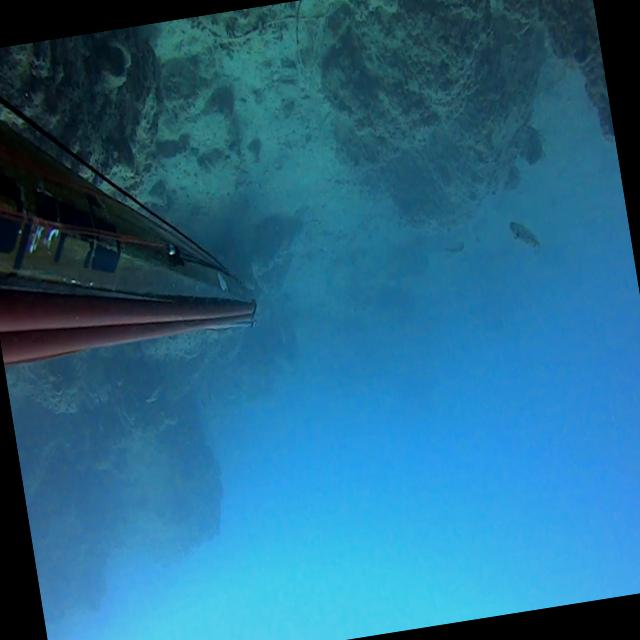Balon Baligi: (508, 216, 540, 256), (144, 386, 162, 404), (442, 242, 465, 254)
